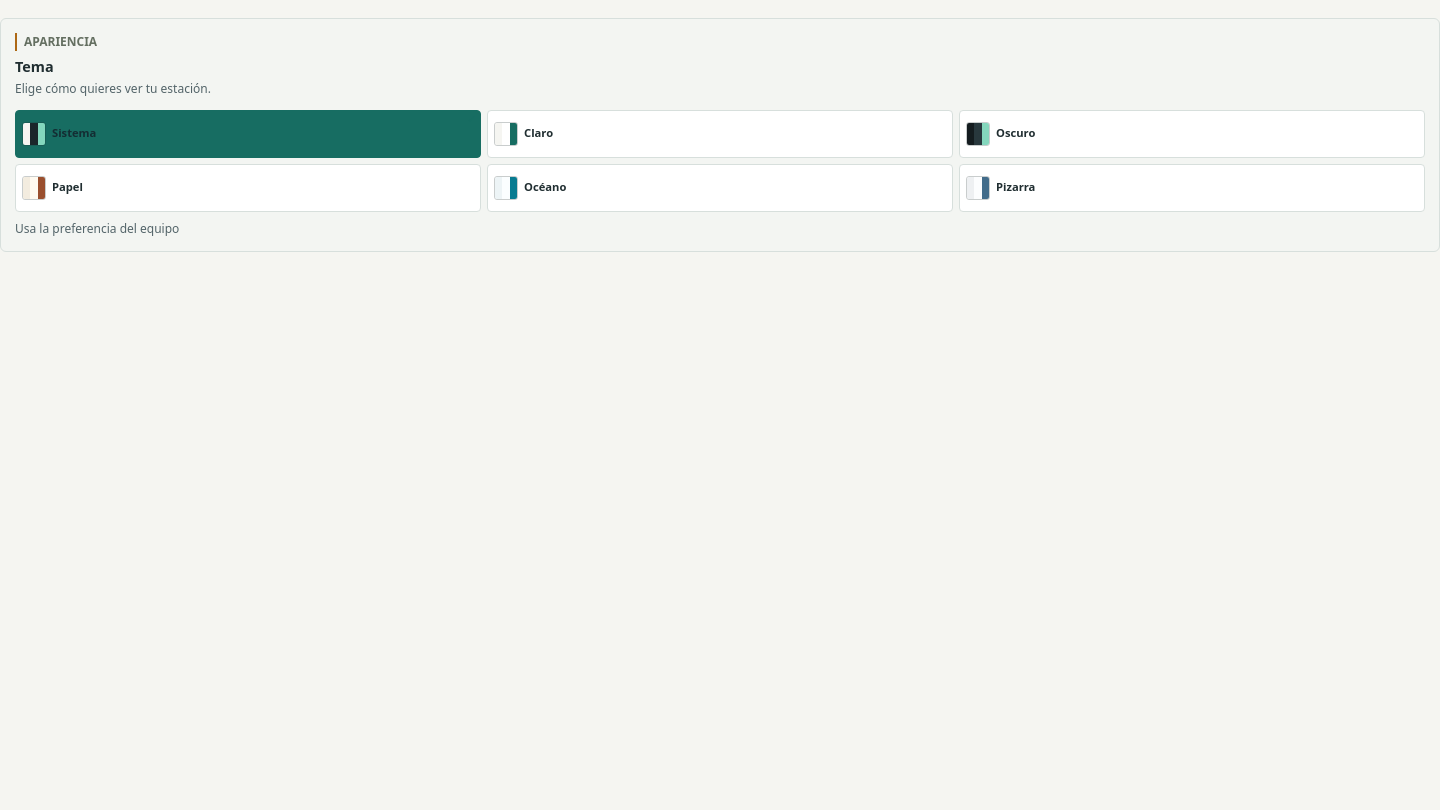
Test: ThemeSwitcher › muestra los tres modos y conserva la selección
The image size is (1440, 810).
Check: the element "Tema" is shown, box [0,18,1439,252]
Click the button "Oscuro": (1016, 133) [959,110,1425,158]
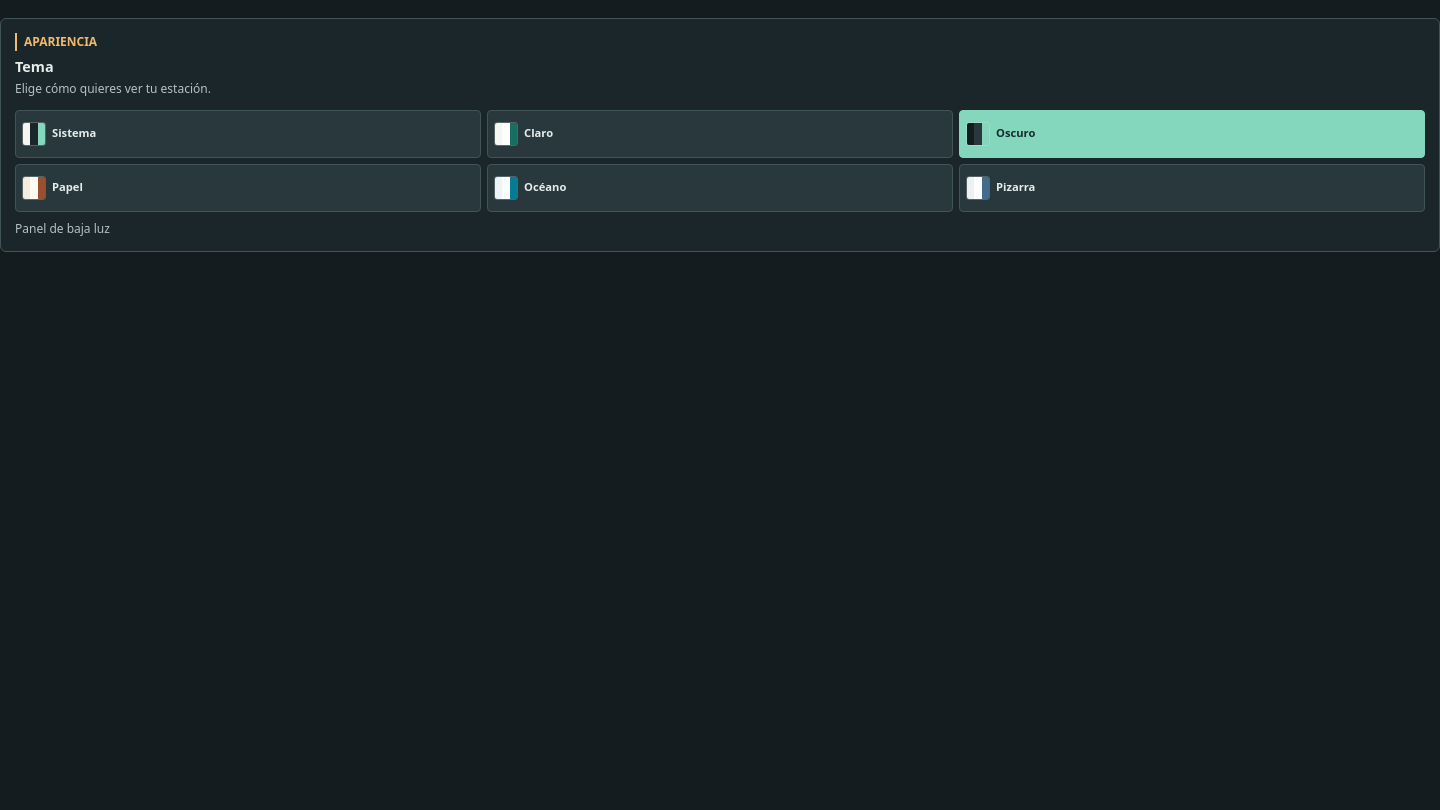
Check: the text "Panel de baja luz" is shown, box [15,220,110,237]
